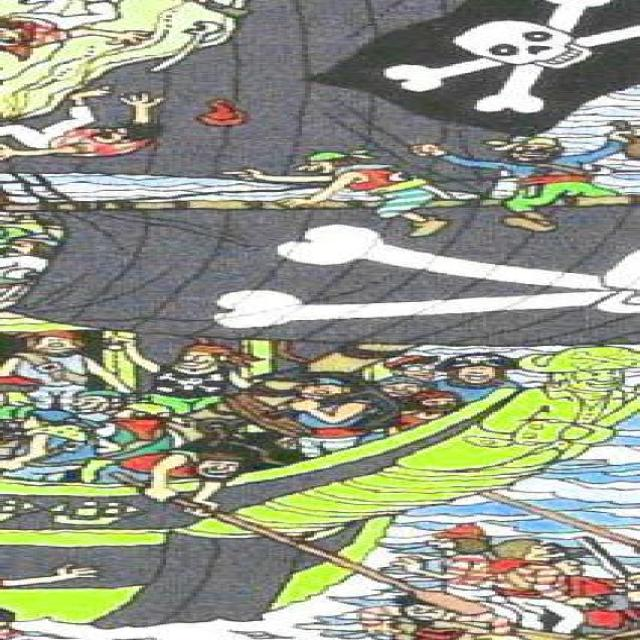waldo: (383, 354, 438, 380)
